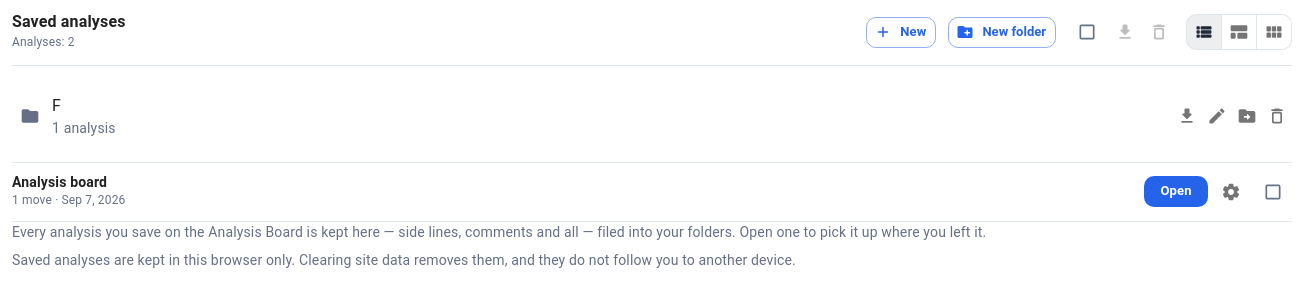
Saved analyses — named, and filed in folders (CTA-73) › keeps picks across folders, select-all adding the rows on screen
The image size is (1304, 285).
Step 1. Click the checkbox named "Select this analysis" → (1273, 192), box [1263, 182, 1283, 202]
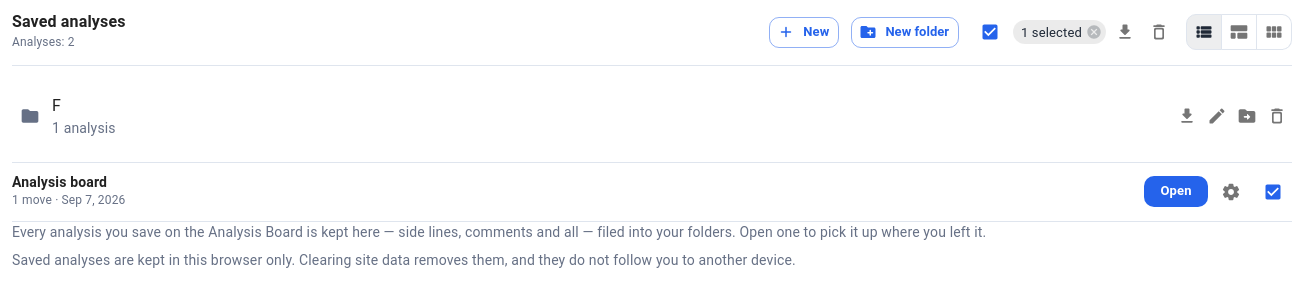
Step 2. Click the button "F 1 analysis" → (84, 128), box [20, 96, 116, 136]
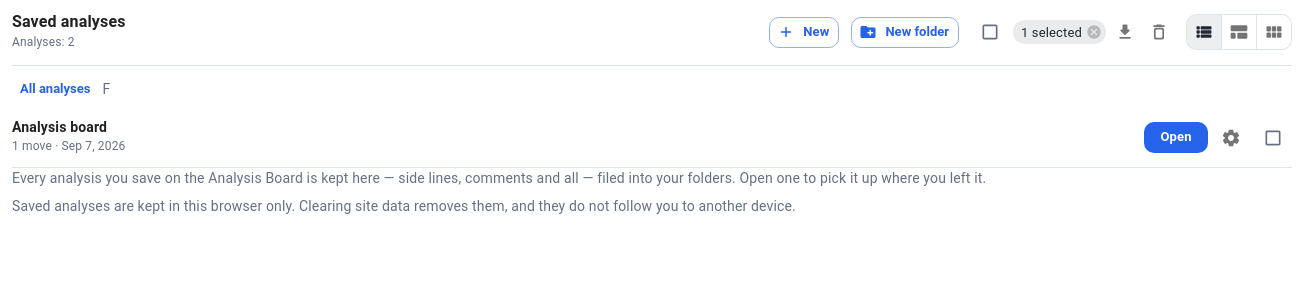
Step 3. Click the checkbox named "Select all analyses" → (990, 32), box [980, 22, 1000, 42]
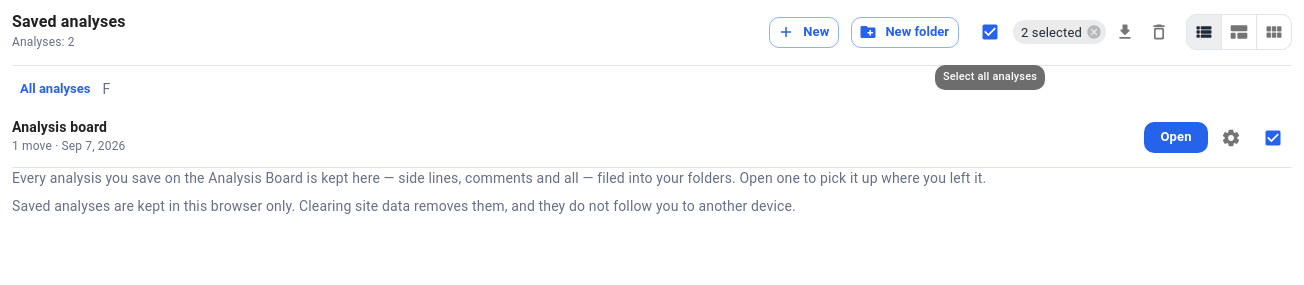
Result: the button with test id "saved-analyses-selected-count" reads "2 selected" at [1013, 20, 1106, 44]
